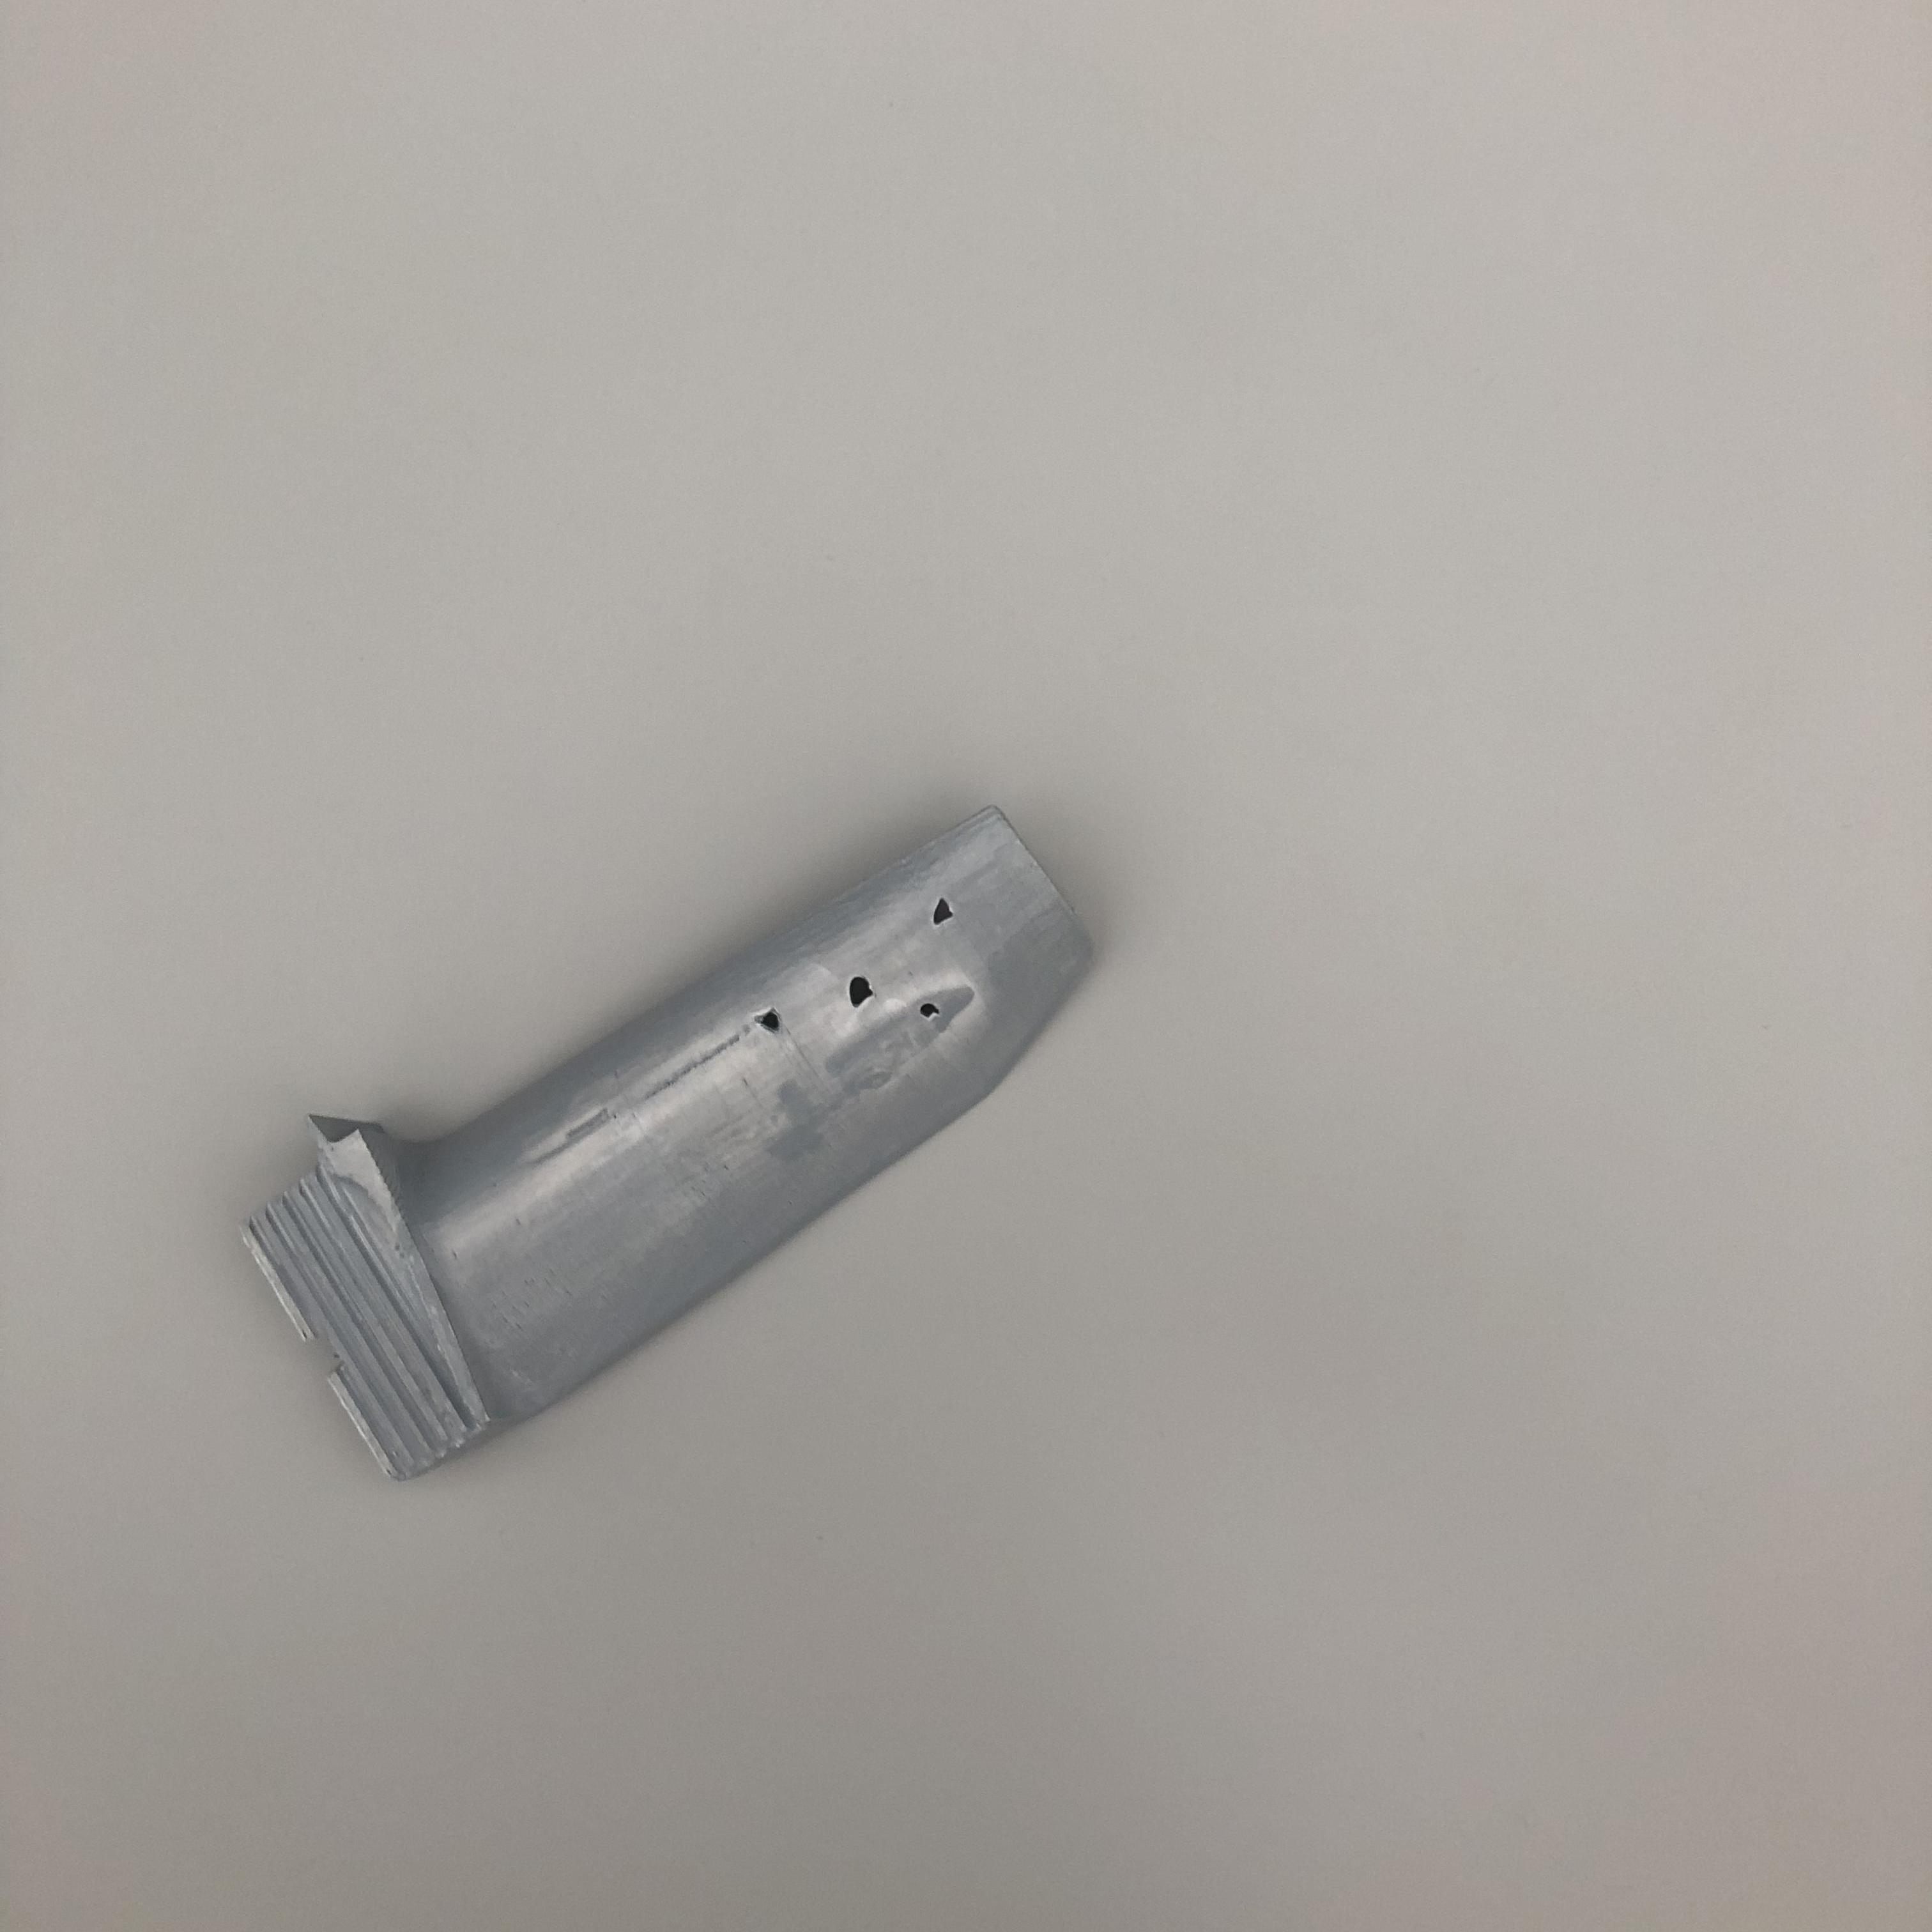breakdown: (757, 968, 980, 1047), (916, 888, 993, 938)
